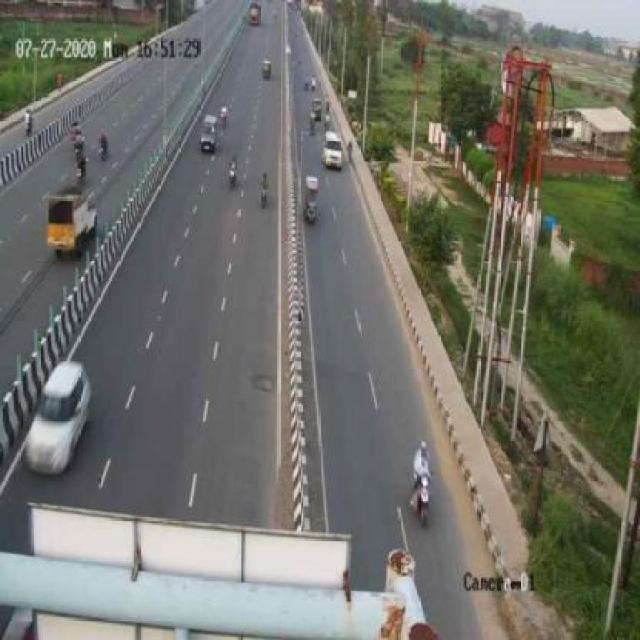car: (23, 357, 92, 472), (198, 106, 220, 156), (323, 124, 348, 168)
